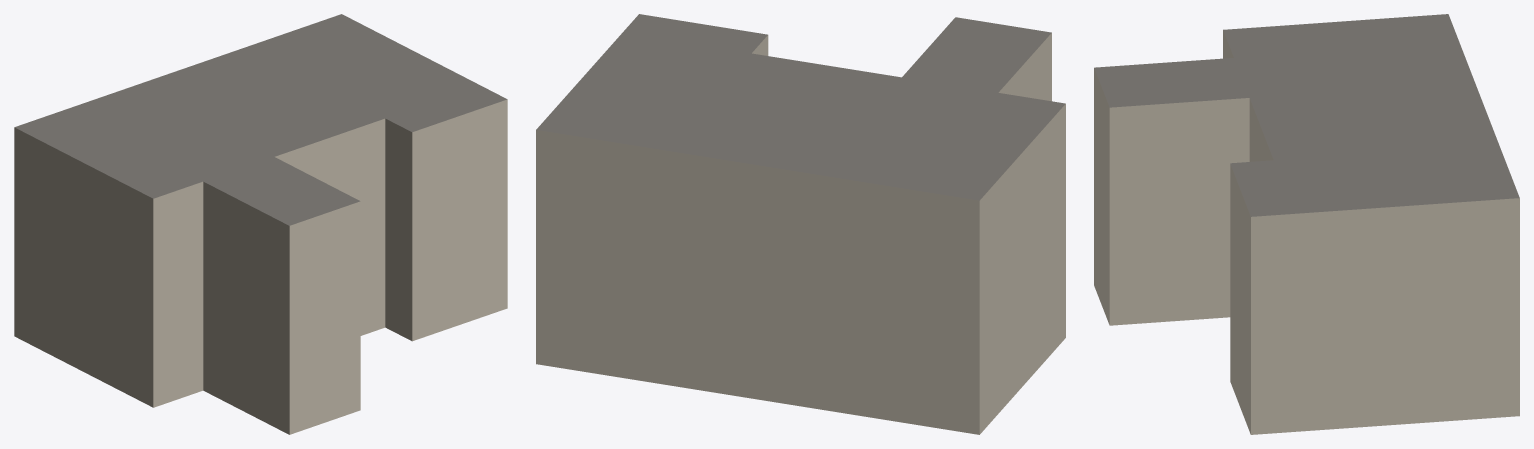
3 renders of one model, left to right at view 1: azimuth 30°, elevation 25°; view 2: azimuth 150°, elevation 25°; view 3: azimuth 270°, elevation 25°, orthographic. The views are drawn at different scales.
Parts seen in each view (by area): view 1: HP-w858807430; view 2: HP-w858807430; view 3: HP-w858807430.
Boxes of the visible parts, bbox=[...] form: HP-w858807430: bbox=[14, 14, 507, 434]; HP-w858807430: bbox=[536, 14, 1065, 434]; HP-w858807430: bbox=[1094, 14, 1519, 434].
Bounding box in the file's own units: 23.95 × 12 × 21.23.
